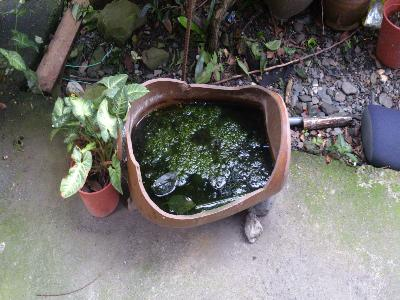bowl: (124, 75, 292, 229)
